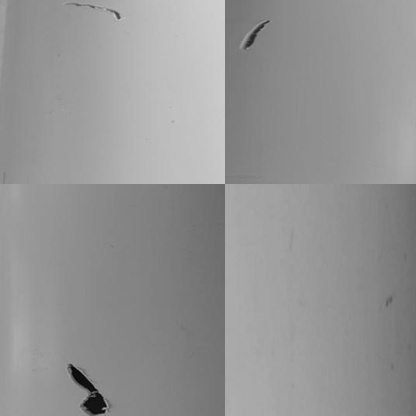fengxi: (61, 2, 126, 23)
kongdong: (64, 361, 114, 414), (240, 16, 268, 52)
